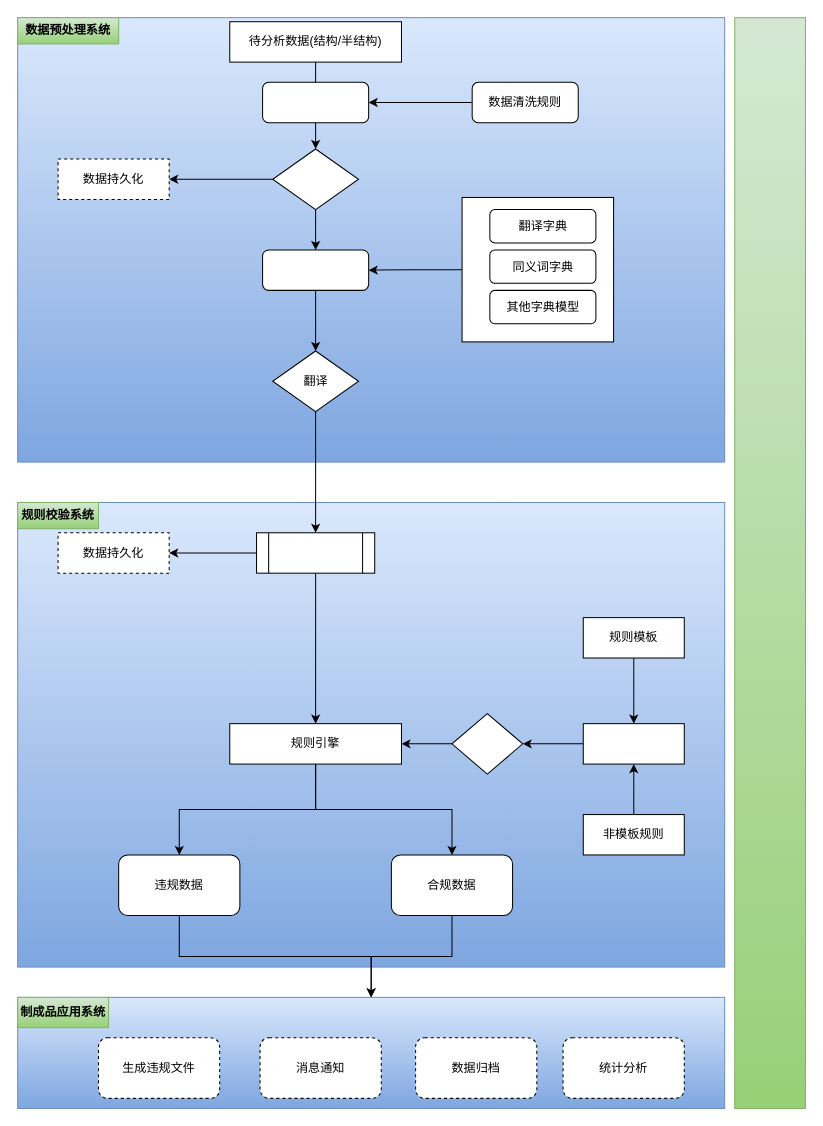
The diagram is 823 pixels wide and 1126 high, and some of its shapes have lost their labels. The box of each missing label's shape, as (x1, y1, x2, y2) in pixels:
加载: (451, 713, 523, 774)
构建字典上下文: (262, 249, 369, 290)
构建清洗上下文: (262, 81, 369, 123)
消息总线: (734, 17, 805, 1108)
清洗: (272, 148, 359, 210)
维度模型数据: (256, 532, 375, 573)
规则库: (582, 723, 684, 764)
